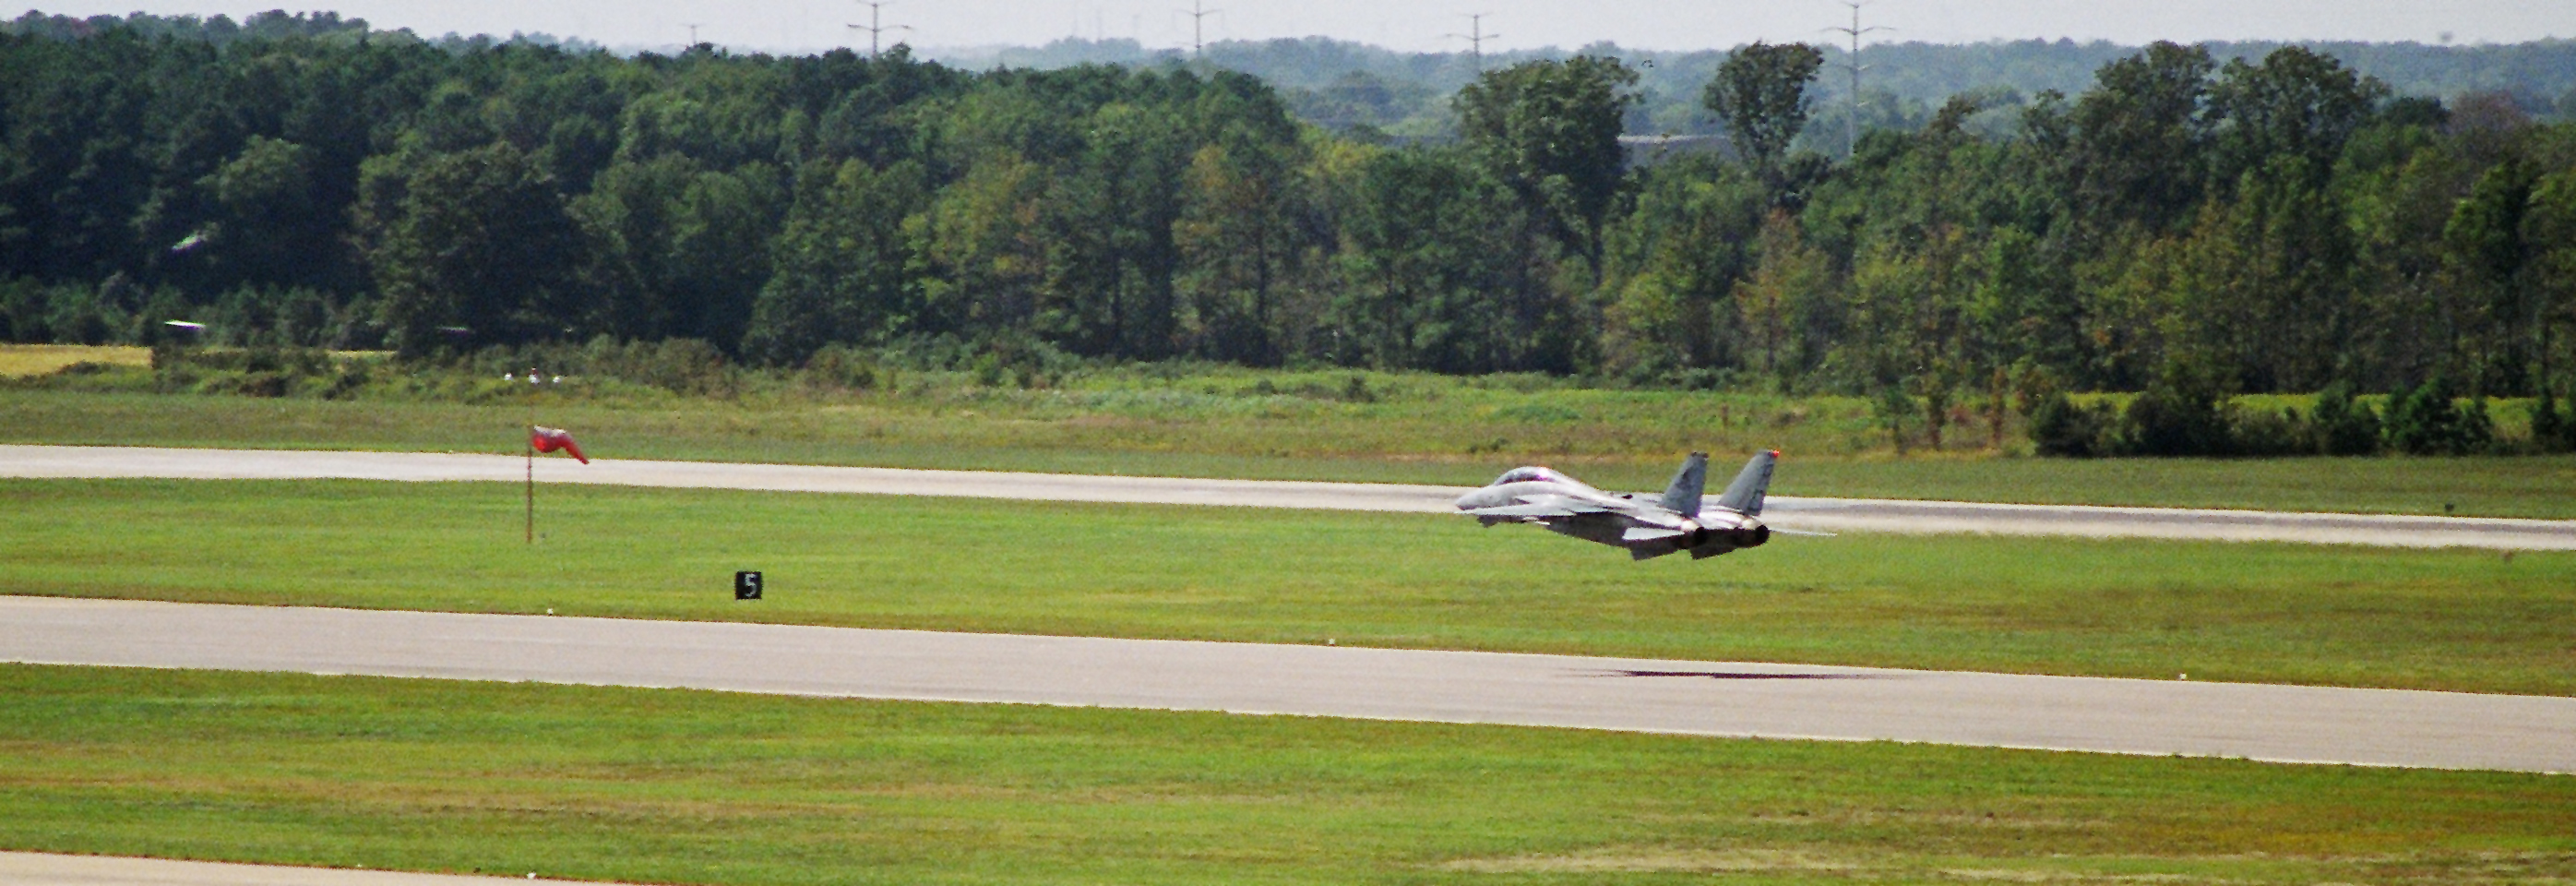F14: (1452, 449, 1838, 562)
